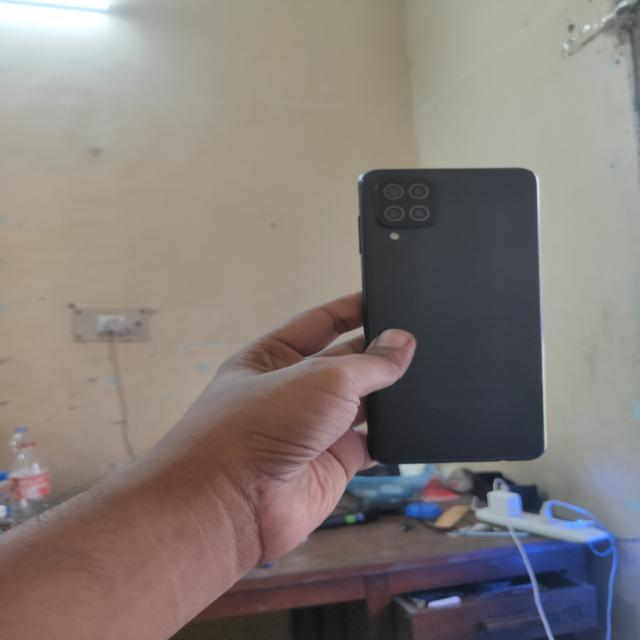Phone: (356, 161, 552, 466)
